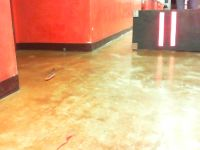switch: (169, 11, 176, 47), (157, 12, 164, 47)
